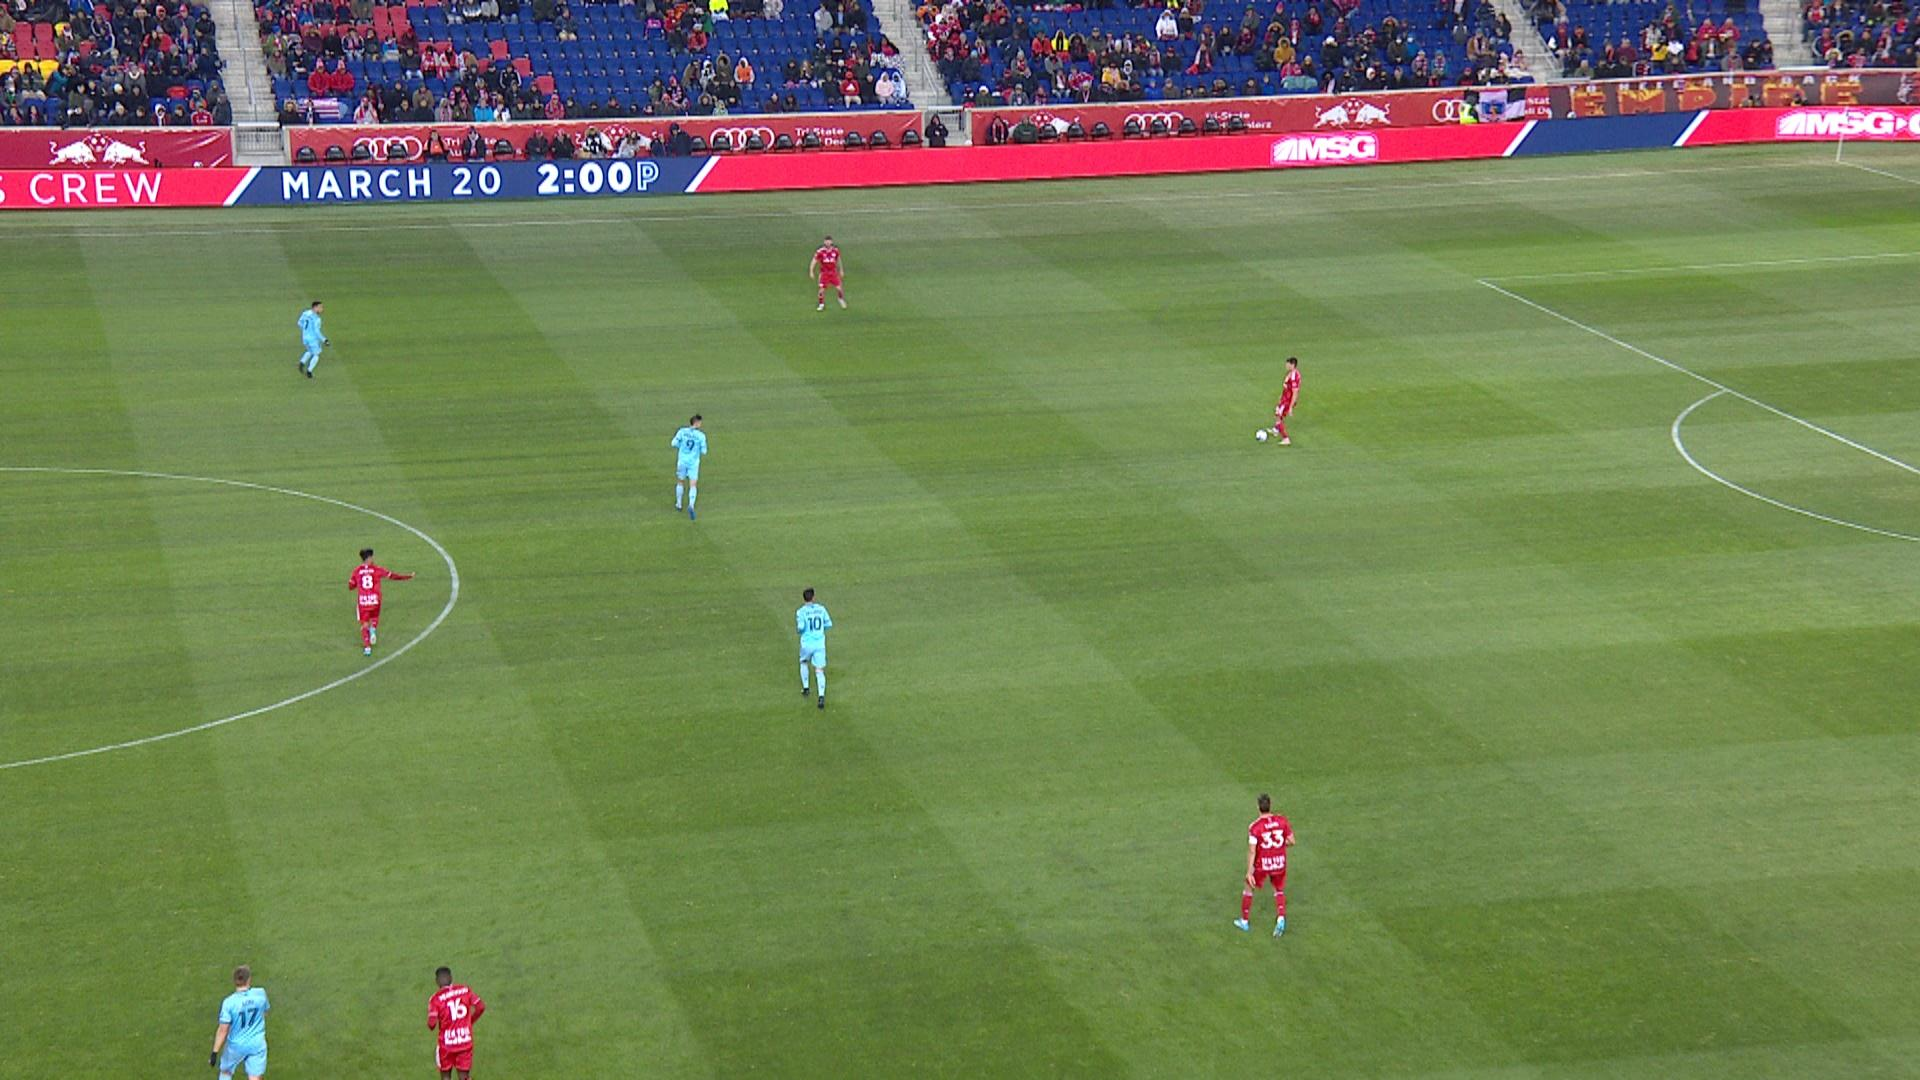football: (1255, 429, 1269, 443)
